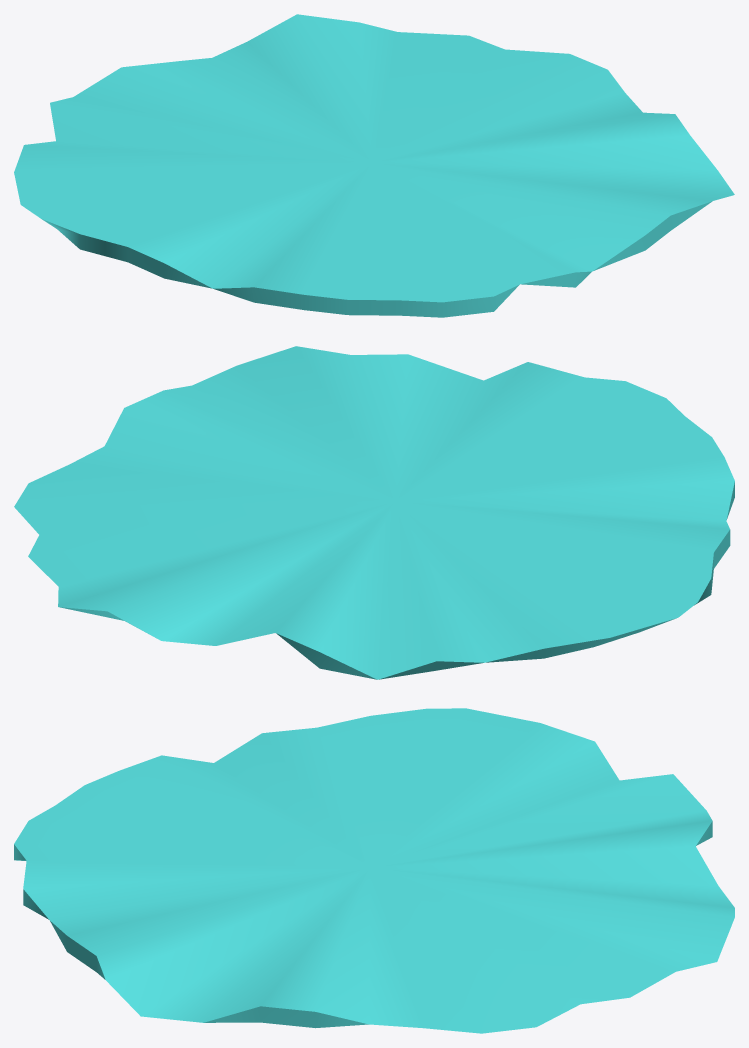
File: PLATFORM1.fbx
3 views of the same model, one above another, from view 1: azimuth 30°, elevation 25°; view 2: azimuth 150°, elevation 25°; view 3: azimuth 270°, elevation 25° (orthographic). The views are drawn at different scales.
Visible parts, largest first — view 1: pCylinder5; view 2: pCylinder5; view 3: pCylinder5.
Part boxes in pixels (x1,y1,x2,y2): pCylinder5: (14,14,734,317); pCylinder5: (14,346,734,679); pCylinder5: (14,708,734,1033).
Size of the model in its own units: 20.33 by 0.5 by 20.05.
